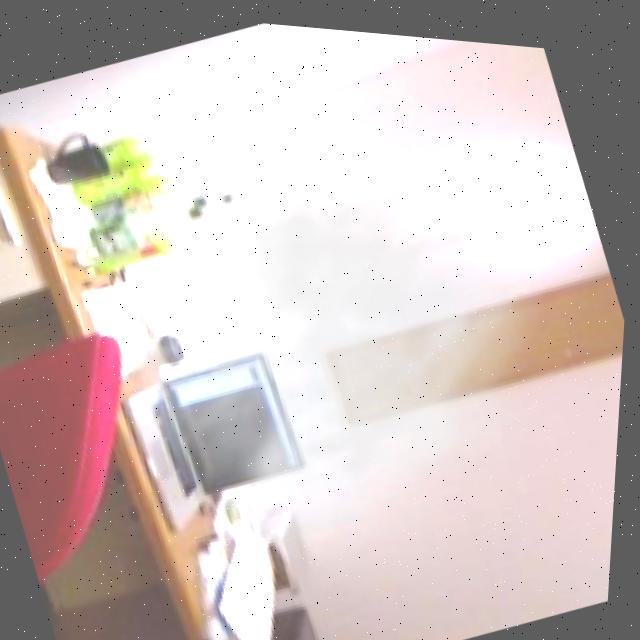Smoke: (48, 49, 612, 572)
